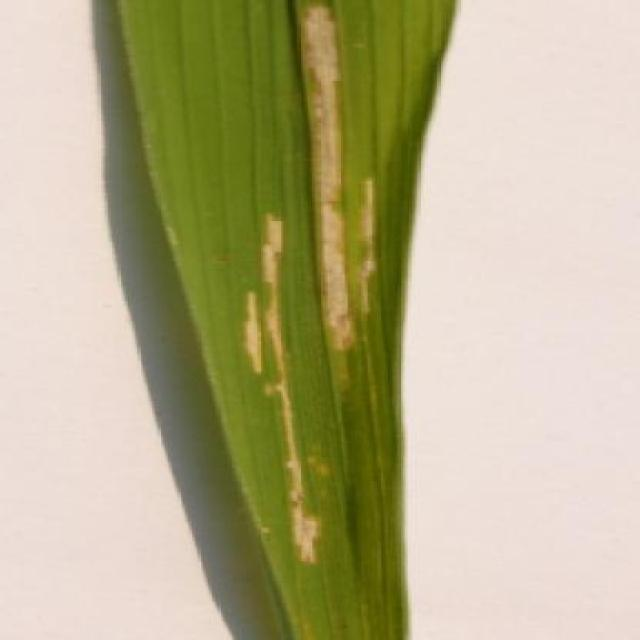Brown_Spot: (118, 0, 467, 640)
